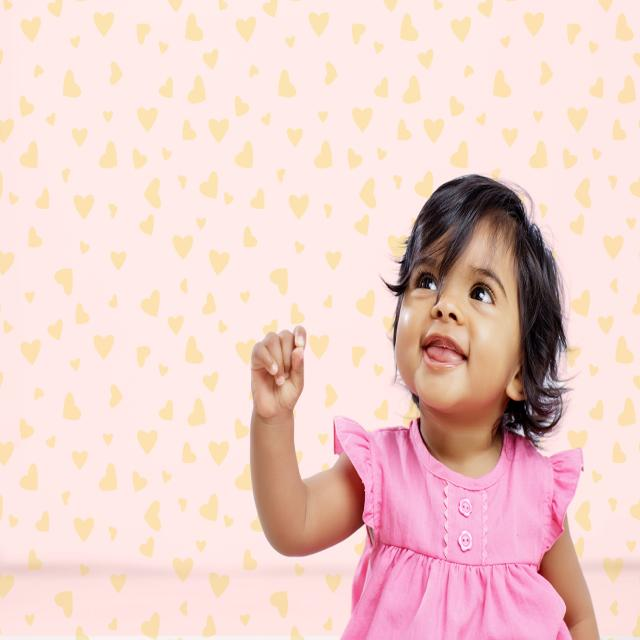child: (247, 174, 603, 640)
